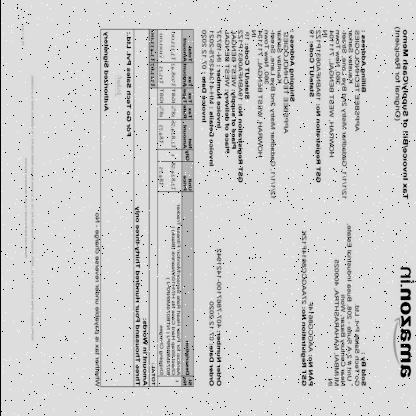Paragraph: (199, 28, 296, 202), (306, 28, 368, 202), (325, 222, 367, 390), (22, 75, 34, 344), (392, 25, 410, 202), (132, 205, 148, 387), (298, 229, 314, 388), (206, 246, 222, 388), (92, 212, 100, 388), (124, 31, 132, 138), (100, 30, 108, 113), (20, 24, 24, 48)
Table: (148, 29, 193, 387)
